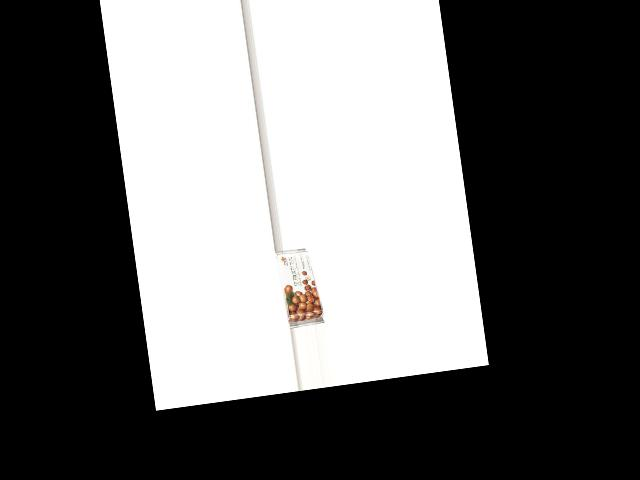chocolate: (277, 246, 325, 327)
